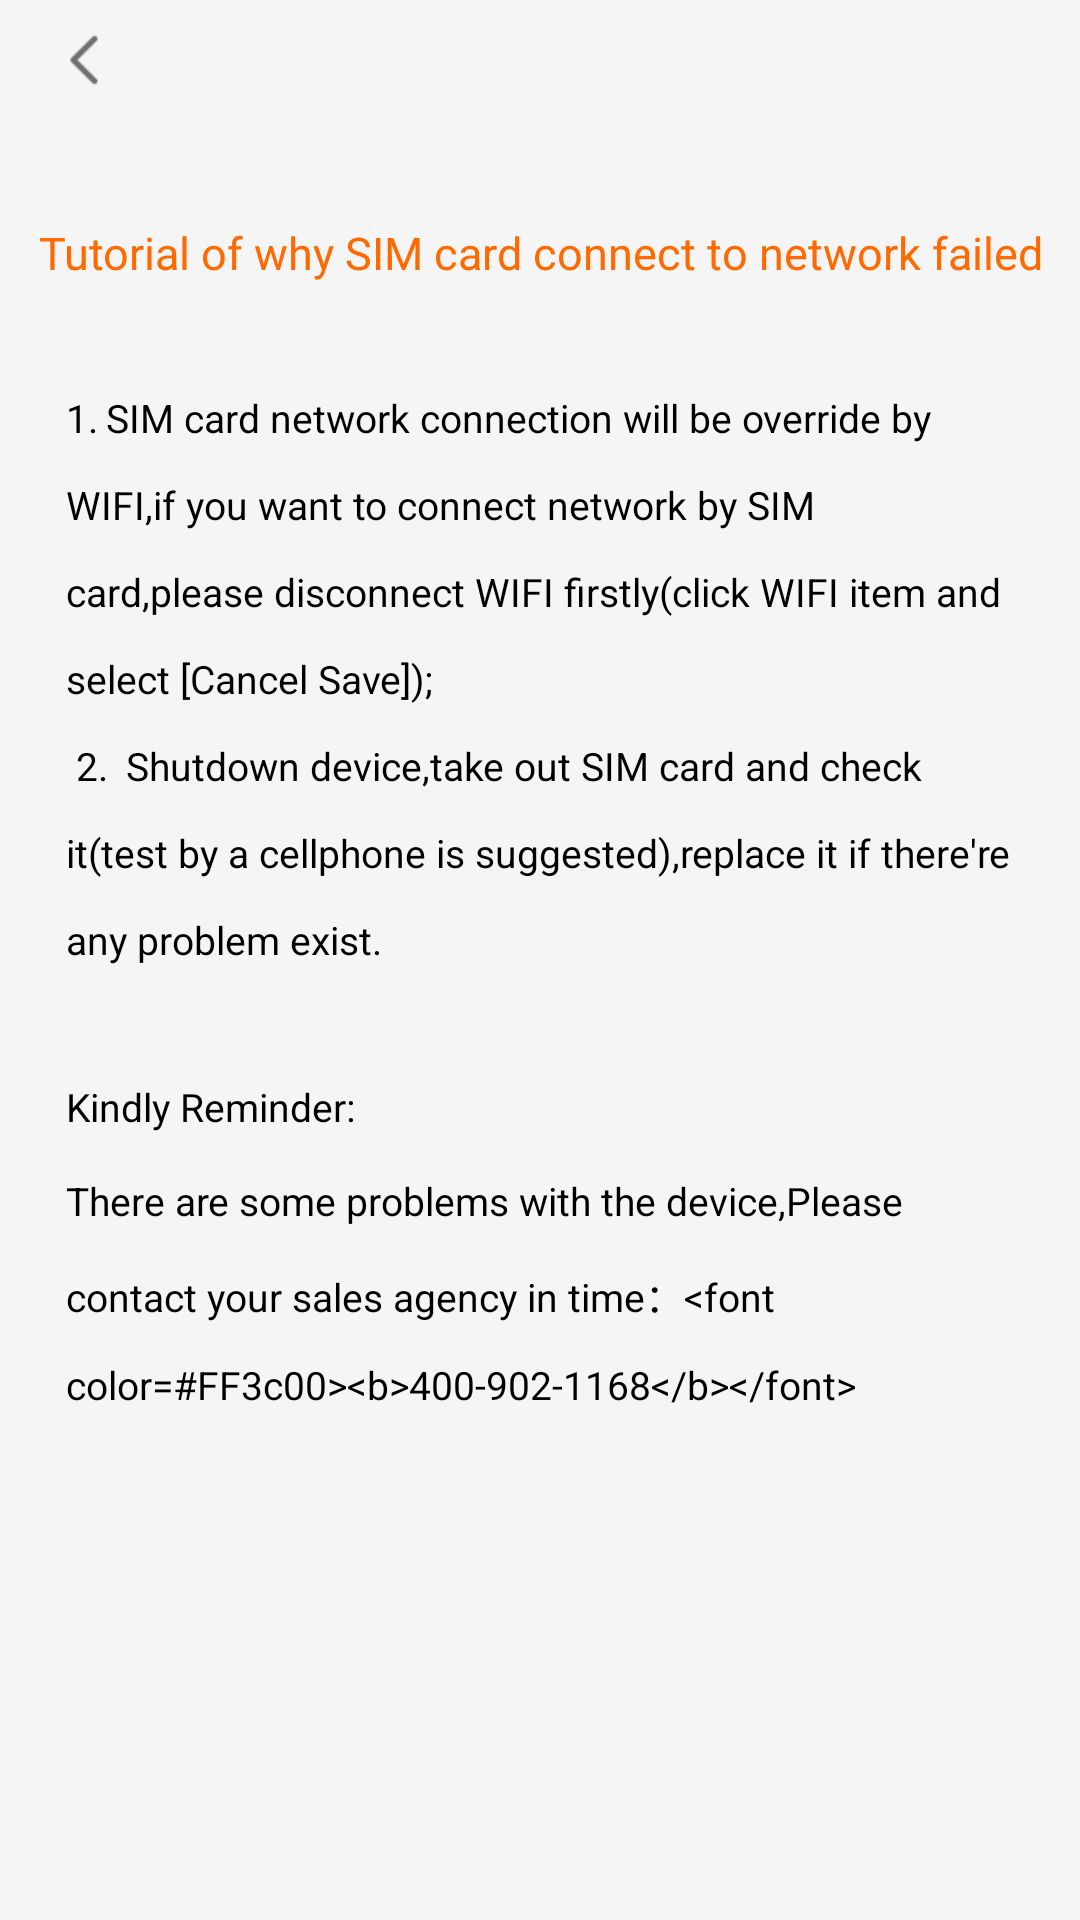

Icon bounding boxes for this 1080px×1920px phone screenshot, format [left=x1, top=y1, right=x2, bottom=y2]:
back: [left=70, top=36, right=98, bottom=84]
